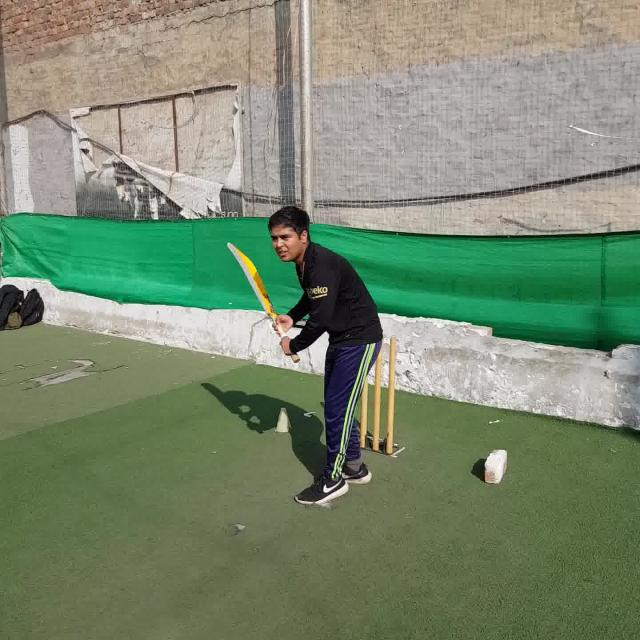bat: (225, 242, 300, 362)
